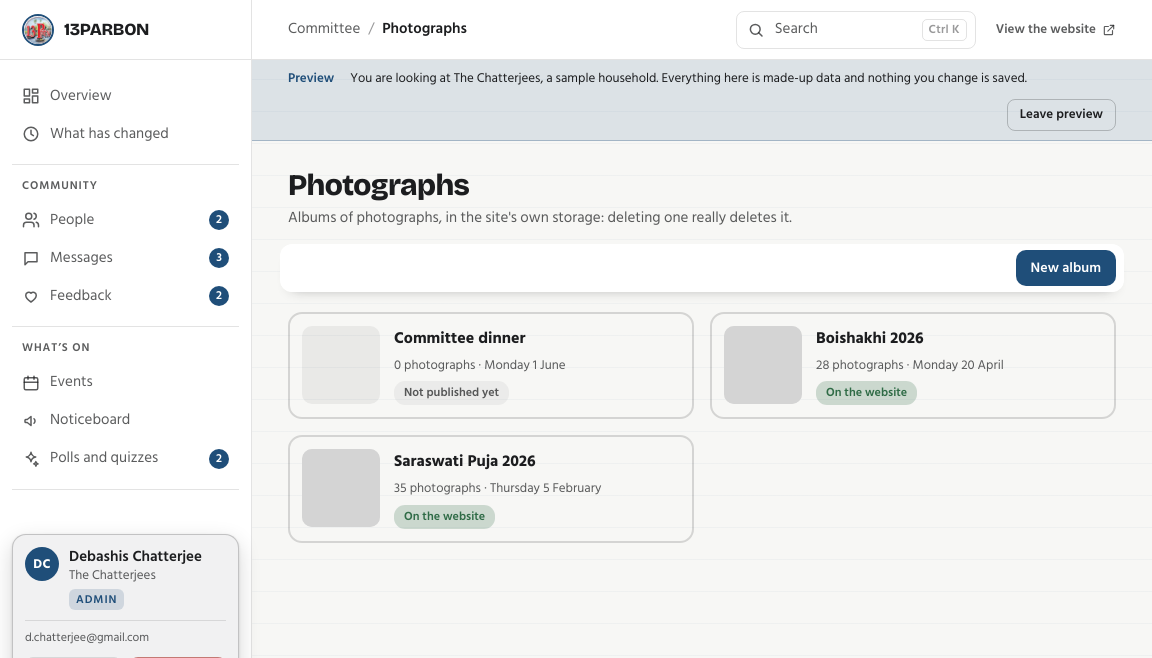
Test: the albums › says what the upload will take, before anybody tries
Click the button "Boishakhi 2026": [913, 366] box top-left (710, 312), bottom-right (1116, 419)
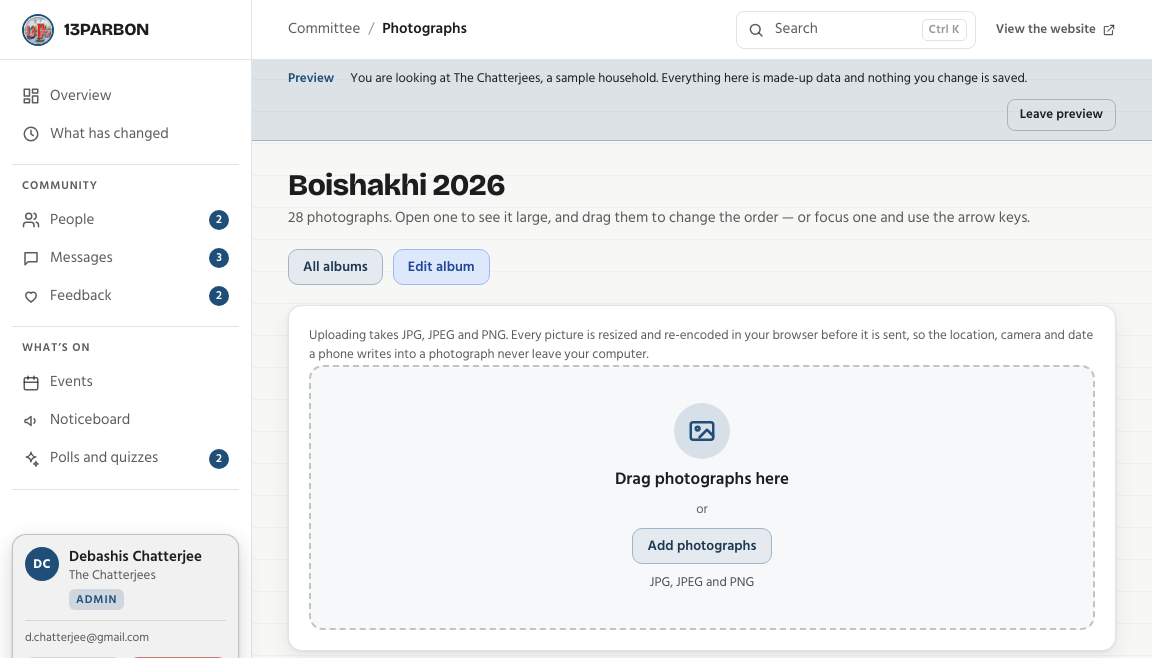
Now the text "JPG, JPEG and PNG" is shown, box top-left (402, 324), bottom-right (506, 346)
